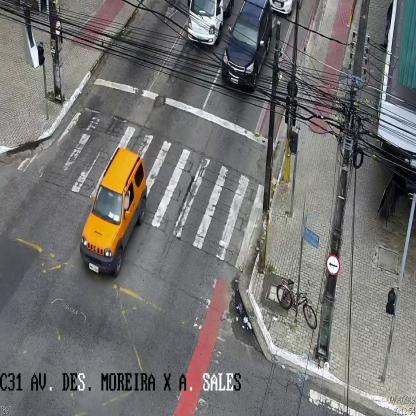bicycle: (276, 277, 316, 333)
car: (80, 148, 147, 278), (222, 0, 272, 90)
truck: (186, 1, 235, 45)
